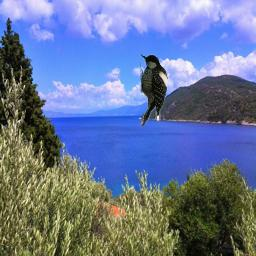Woodpecker: (140, 54, 168, 126)
